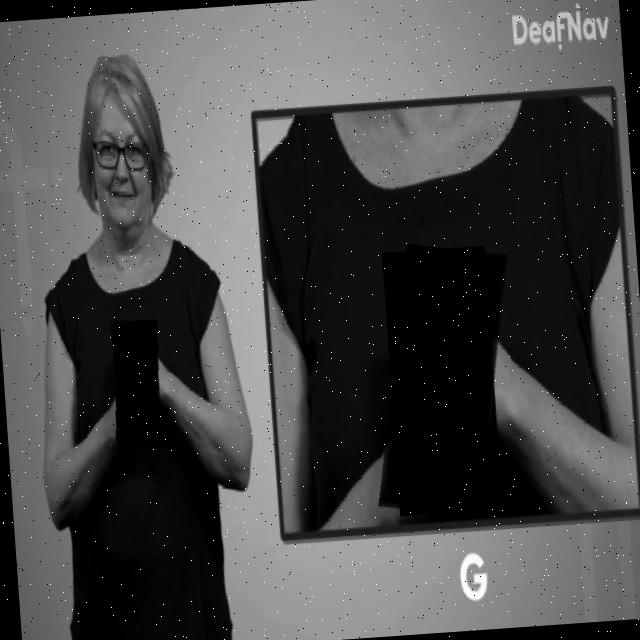G: (372, 243, 515, 521), (111, 320, 166, 444)
